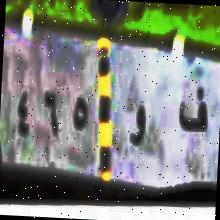4: (13, 84, 34, 150)
5: (69, 86, 92, 144)
6: (40, 84, 62, 144)
faa: (174, 78, 211, 140)
waw: (128, 96, 148, 154)
